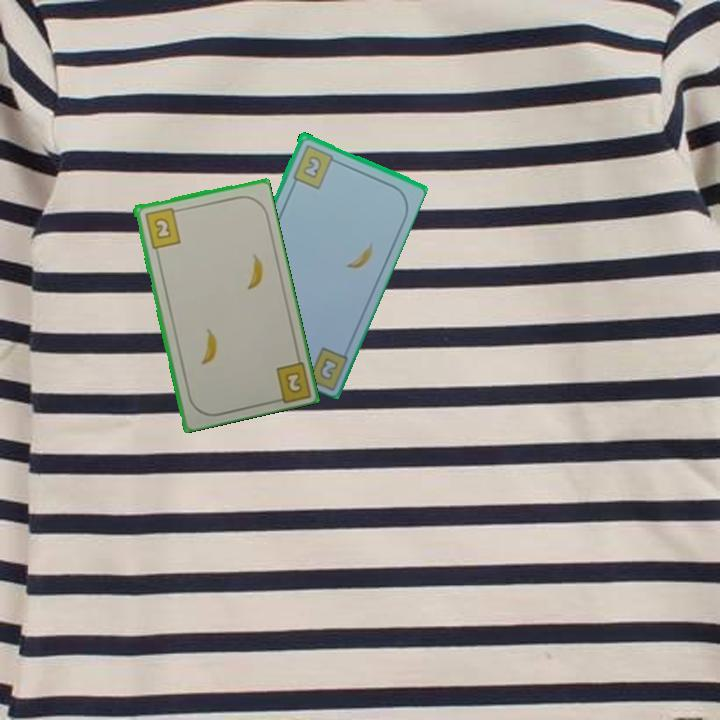2b: (289, 141, 341, 191), (141, 204, 183, 251), (316, 354, 341, 383), (281, 368, 305, 396)
